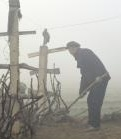person: (65, 39, 111, 134)
